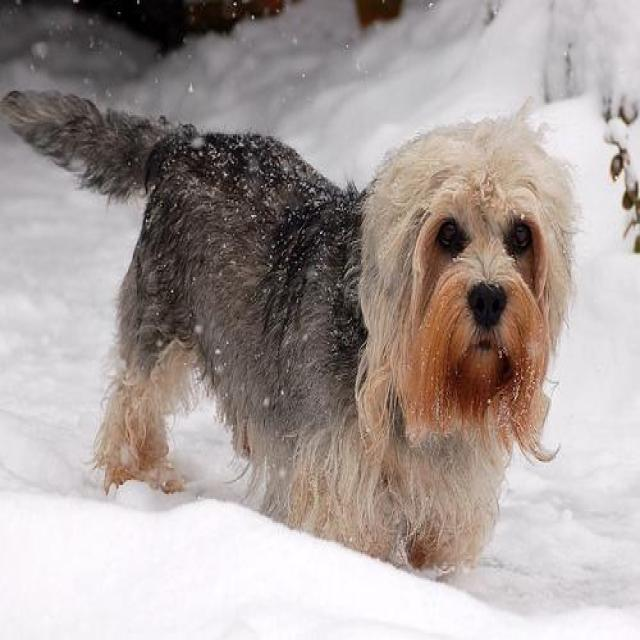dandie_dinmont: (3, 86, 576, 575)
